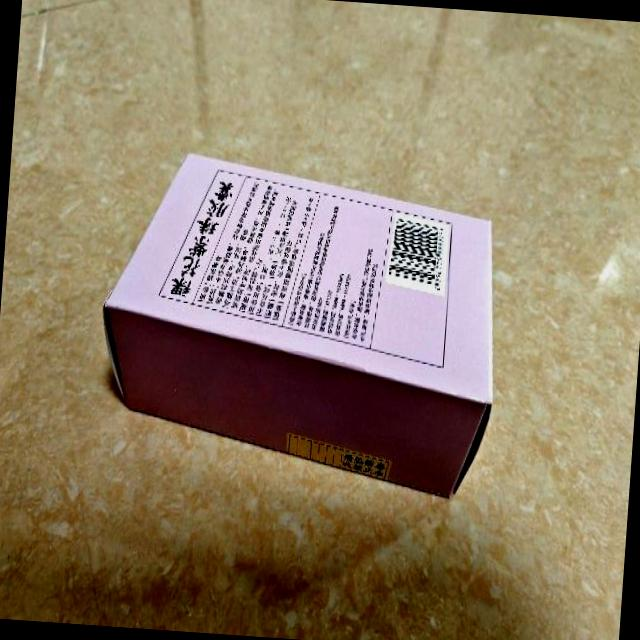box: (91, 145, 509, 500)
